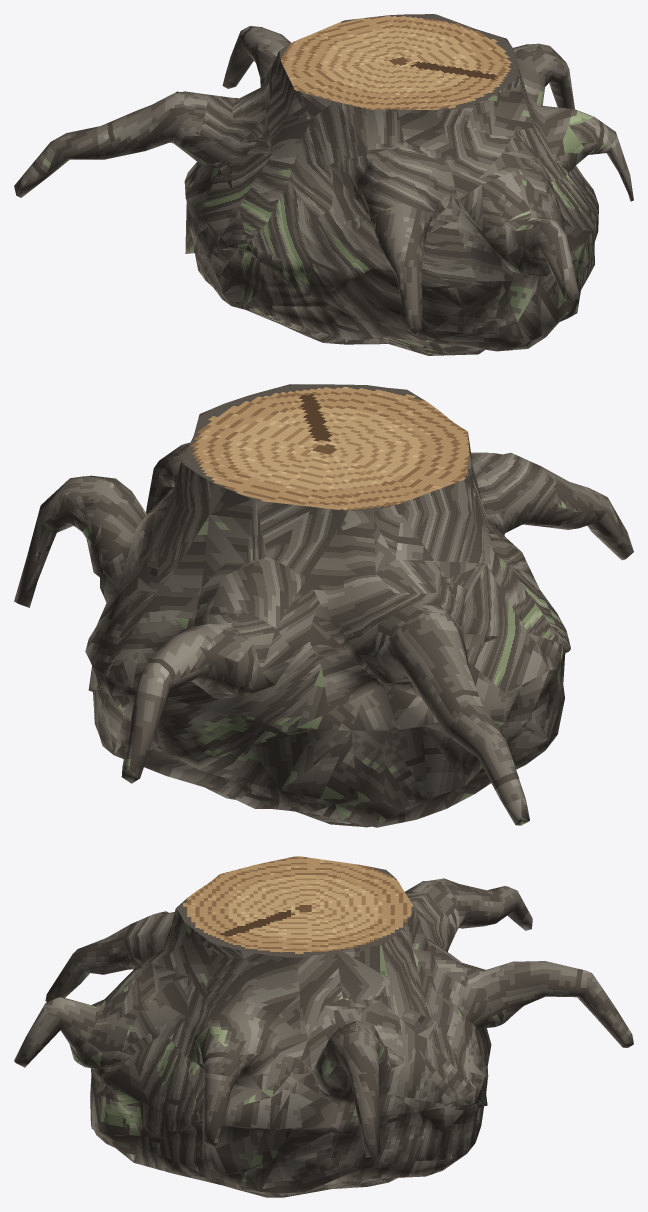
The model's file is environment_elm5_stump_v34.fbx.
3 renders of one model, top to bottom at view 1: azimuth 30°, elevation 25°; view 2: azimuth 150°, elevation 25°; view 3: azimuth 270°, elevation 25°, orthographic. The views are drawn at different scales.
Parts seen in each view (by area): view 1: environment_elm5_stump_v34; view 2: environment_elm5_stump_v34; view 3: environment_elm5_stump_v34.
Boxes of the visible parts, x1,y1,x2,y2 form: environment_elm5_stump_v34: [14, 14, 633, 355]; environment_elm5_stump_v34: [14, 384, 633, 827]; environment_elm5_stump_v34: [14, 856, 633, 1197].
Size of the model in its own units: 516 by 261 by 575.
Materials: 2 (2 with a texture image).
